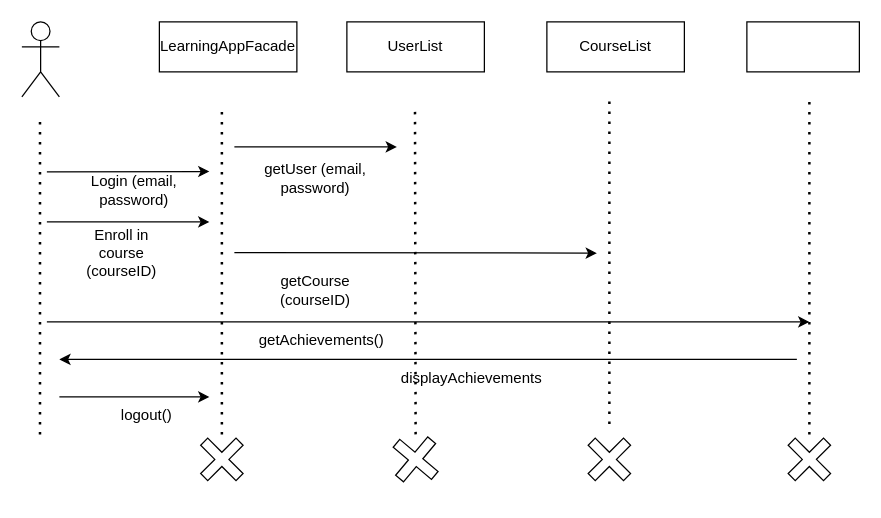
This 881x518 diagram has some shape labels left out. The shapes that lost their labels are listed below. From the top down, each one's centre as x and y in pixels, then its label:
(x=40, y=59): User
(x=802, y=46): Achievements
